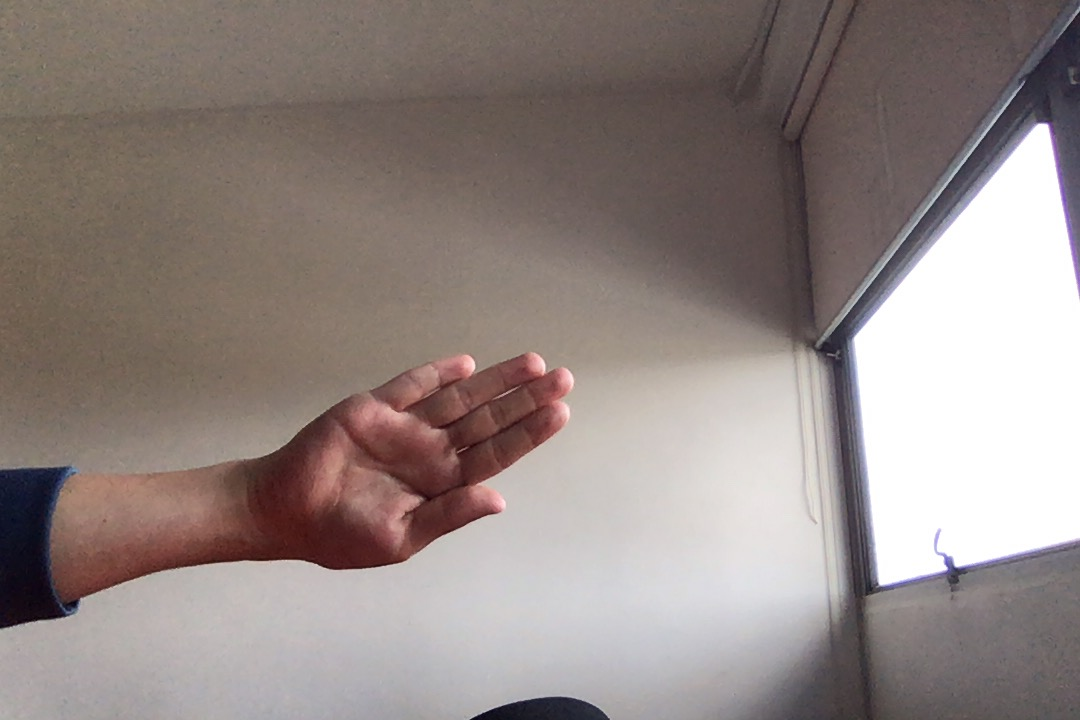palmhand: (273, 345, 580, 574)
